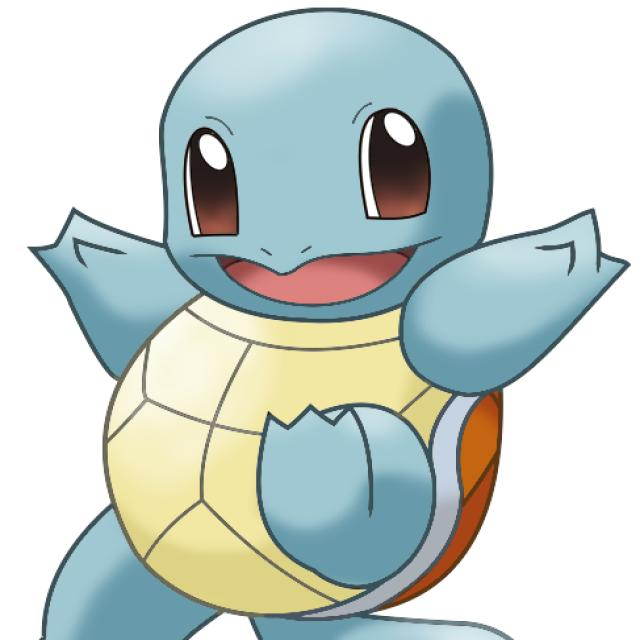Squirtle: (131, 13, 520, 614)
